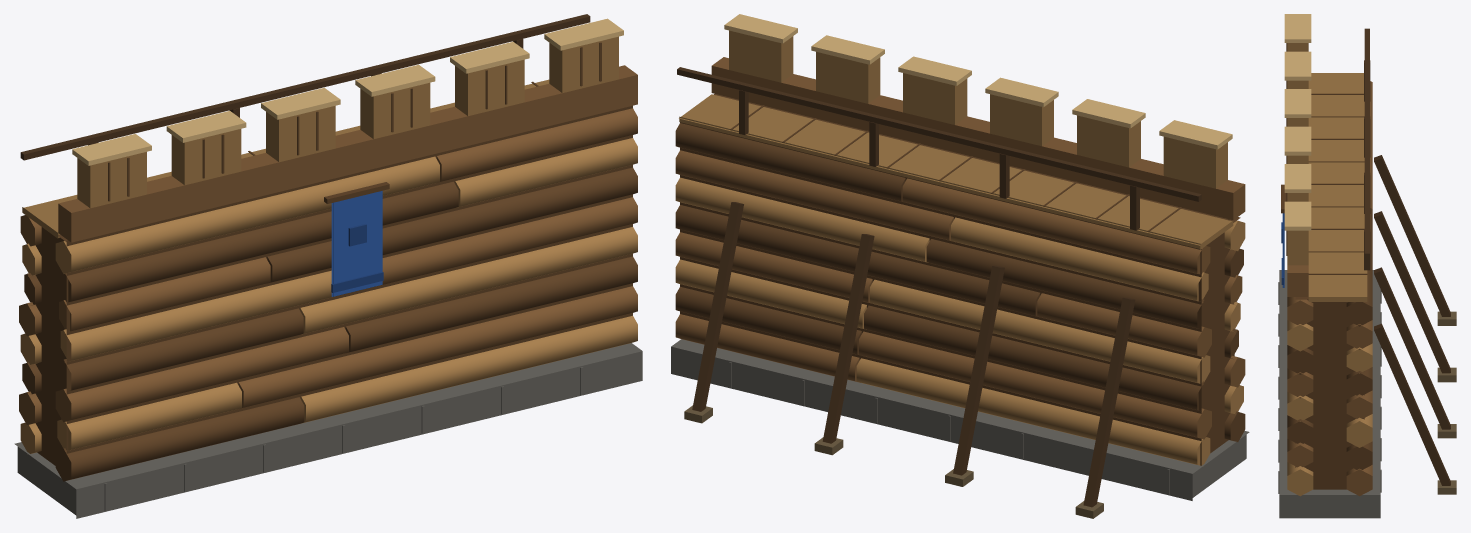
Rendered from timber-wall-segment.glb.
3 views of the same model, side by side, from view 1: azimuth 30°, elevation 25°; view 2: azimuth 150°, elevation 25°; view 3: azimuth 270°, elevation 25° (orthographic). The views are drawn at different scales.
Visible parts, largest first — view 1: timber-wall-segment; view 2: timber-wall-segment; view 3: timber-wall-segment.
Part boxes in pixels (bbox=[...]): timber-wall-segment: bbox=[14, 14, 642, 518]; timber-wall-segment: bbox=[671, 14, 1249, 518]; timber-wall-segment: bbox=[1278, 14, 1456, 518].
Size of the model in its own units: 10 by 5.93 by 3.35.
Materials: 1 (1 with a texture image).
